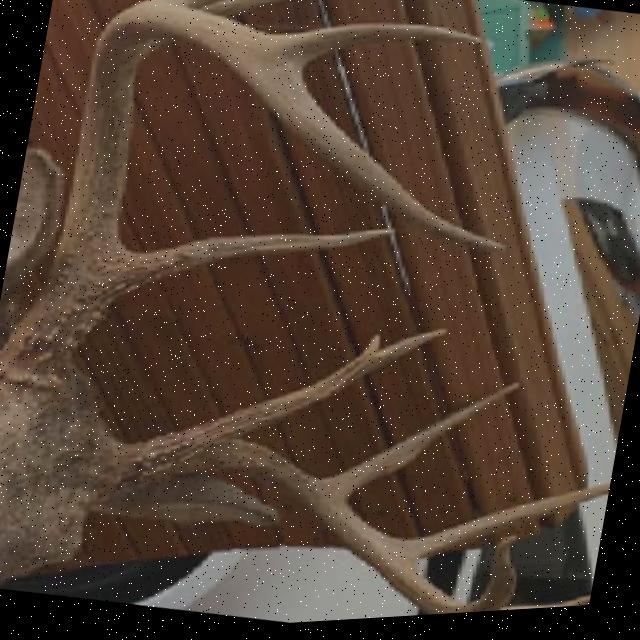L-F: (106, 429, 517, 620)
L-G1: (195, 332, 452, 439)
L-G2: (315, 386, 521, 506)
L-G3: (392, 489, 610, 565)
L-G4: (500, 601, 591, 617)
R-F: (0, 3, 509, 390)
R-G1: (109, 232, 403, 308)
R-G2: (271, 27, 485, 71)
